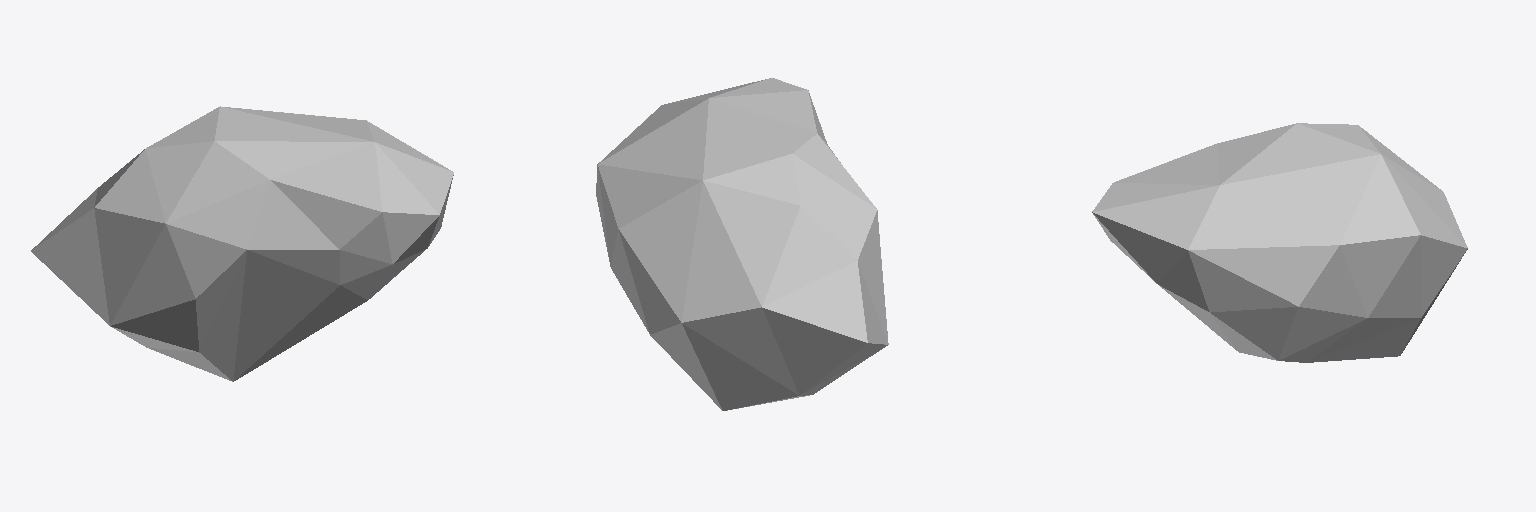
The model's file is island_cloud_3.obj.
3 views of the same model, side by side, from view 1: azimuth 30°, elevation 25°; view 2: azimuth 150°, elevation 25°; view 3: azimuth 270°, elevation 25° (orthographic).
Visible parts, largest first — view 1: cloud3 clouds island_obj; view 2: cloud3 clouds island_obj; view 3: cloud3 clouds island_obj.
Boxes of the visible parts, <box> form: cloud3 clouds island_obj: <box>31,106,453,381</box>; cloud3 clouds island_obj: <box>596,78,888,410</box>; cloud3 clouds island_obj: <box>1092,123,1467,362</box>.
Bounding box in the file's own units: 2.44 × 1.67 × 2.44.